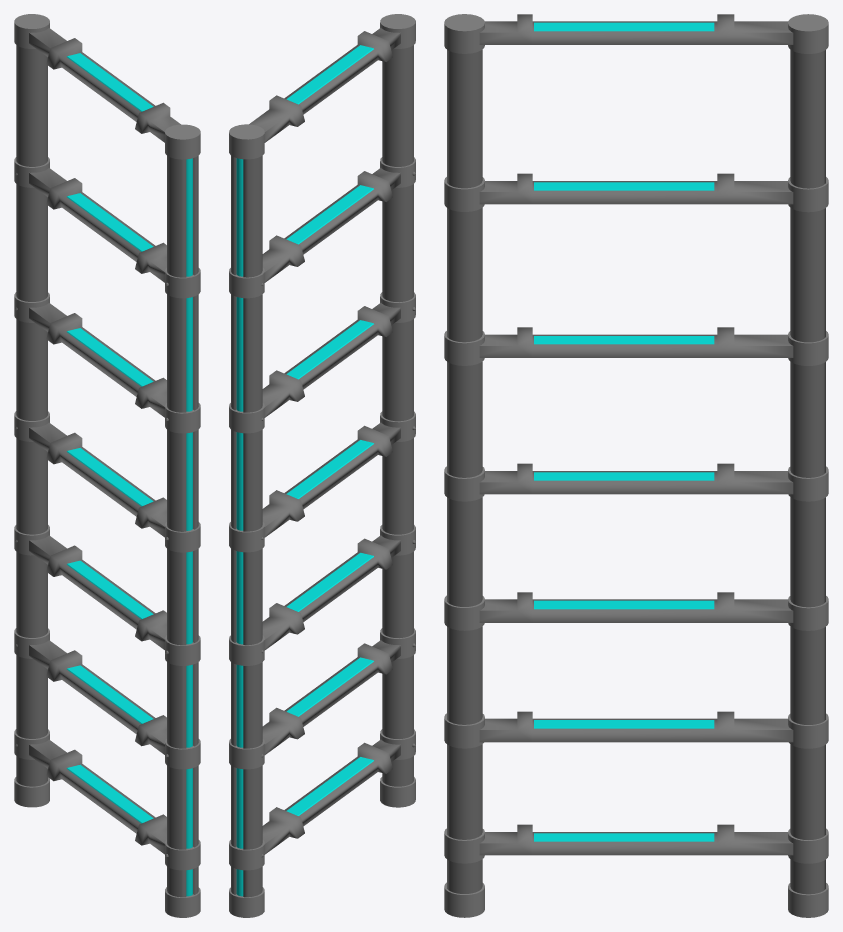
File: MonkeyStair.fbx
The picture shows the model from 3 angles, left to right: view 1: azimuth 30°, elevation 25°; view 2: azimuth 150°, elevation 25°; view 3: azimuth 270°, elevation 25°; orthographic projection. The views are drawn at different scales.
Visible parts, largest first — view 1: pCylinder1, pCylinder11, pCylinder20, pCube13, pCube11, pCube9, pCube1, pCube7, pCube5, pCube3, pCylinder19, pCube2 (+21 smaller); view 2: pCylinder11, pCylinder1, pCylinder10, pCube13, pCube1, pCube9, pCube7, pCube5, pCube11, pCube3, pCylinder9, pCube14 (+21 smaller); view 3: pCylinder1, pCylinder11, pCube3, pCube11, pCube1, pCube7, pCube13, pCube5, pCube9, pCube6, pCube14, pCube2 (+20 smaller).
Boxes of the visible parts, left/top/right/bottom form: pCylinder1: left=16, top=45, right=47, bottom=786; pCylinder11: left=167, top=155, right=198, bottom=897; pCylinder20: left=186, top=158, right=192, bottom=896; pCube13: left=29, top=28, right=180, bottom=142; pCube11: left=29, top=168, right=166, bottom=282; pCube9: left=29, top=303, right=166, bottom=417; pCube1: left=29, top=739, right=166, bottom=854; pCube7: left=29, top=422, right=166, bottom=537; pCube5: left=29, top=535, right=166, bottom=649; pCube3: left=29, top=640, right=166, bottom=754; pCylinder19: left=165, top=124, right=200, bottom=159; pCube2: left=66, top=764, right=153, bottom=823; pCylinder11: left=382, top=45, right=413, bottom=786; pCylinder1: left=231, top=155, right=262, bottom=897; pCylinder10: left=236, top=158, right=243, bottom=896; pCube13: left=249, top=28, right=400, bottom=142; pCube1: left=262, top=739, right=400, bottom=854; pCube9: left=262, top=303, right=400, bottom=417; pCube7: left=262, top=422, right=400, bottom=537; pCube5: left=262, top=535, right=400, bottom=650; pCube11: left=262, top=168, right=400, bottom=282; pCube3: left=262, top=640, right=400, bottom=754; pCylinder9: left=229, top=124, right=264, bottom=159; pCube14: left=286, top=45, right=373, bottom=104; pCylinder1: left=790, top=49, right=825, bottom=894; pCylinder11: left=447, top=49, right=482, bottom=893; pCube3: left=479, top=711, right=793, bottom=742; pCube11: left=479, top=173, right=793, bottom=204; pCube1: left=479, top=824, right=793, bottom=855; pCube7: left=479, top=463, right=793, bottom=494; pCube13: left=479, top=14, right=793, bottom=44; pCube5: left=479, top=592, right=793, bottom=622; pCube9: left=479, top=327, right=793, bottom=357; pCube6: left=534, top=600, right=714, bottom=609; pCube14: left=534, top=22, right=714, bottom=31; pCube2: left=534, top=833, right=714, bottom=841.
Size of the model in its own units: 0.4543 by 10.02 by 3.92.
